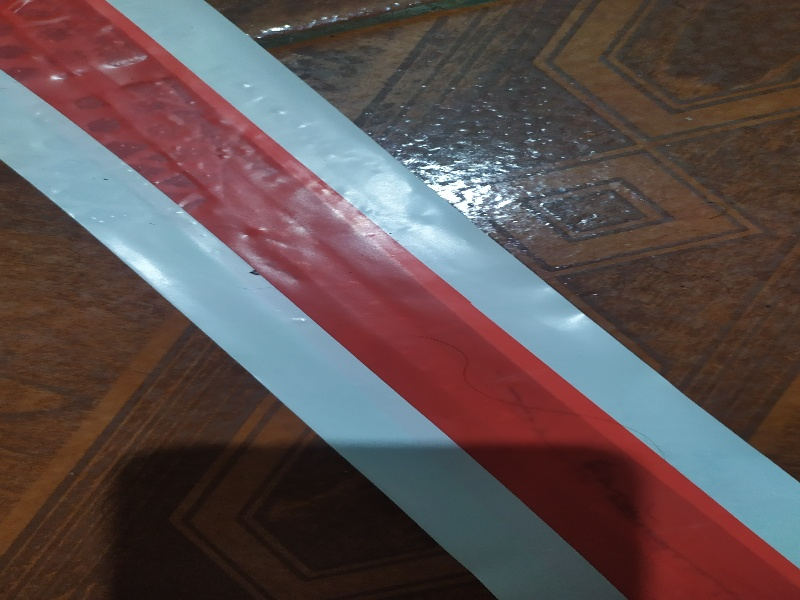saindoDireita: (1, 3, 793, 596)
